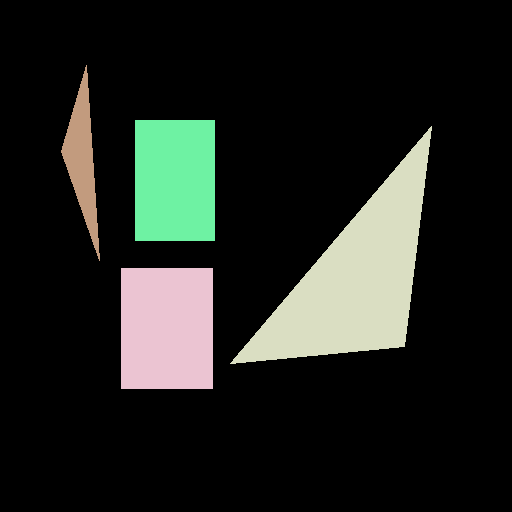rectangle: (121, 268, 212, 388), (135, 120, 214, 240)
triangle: (230, 126, 431, 363), (61, 65, 99, 260)
